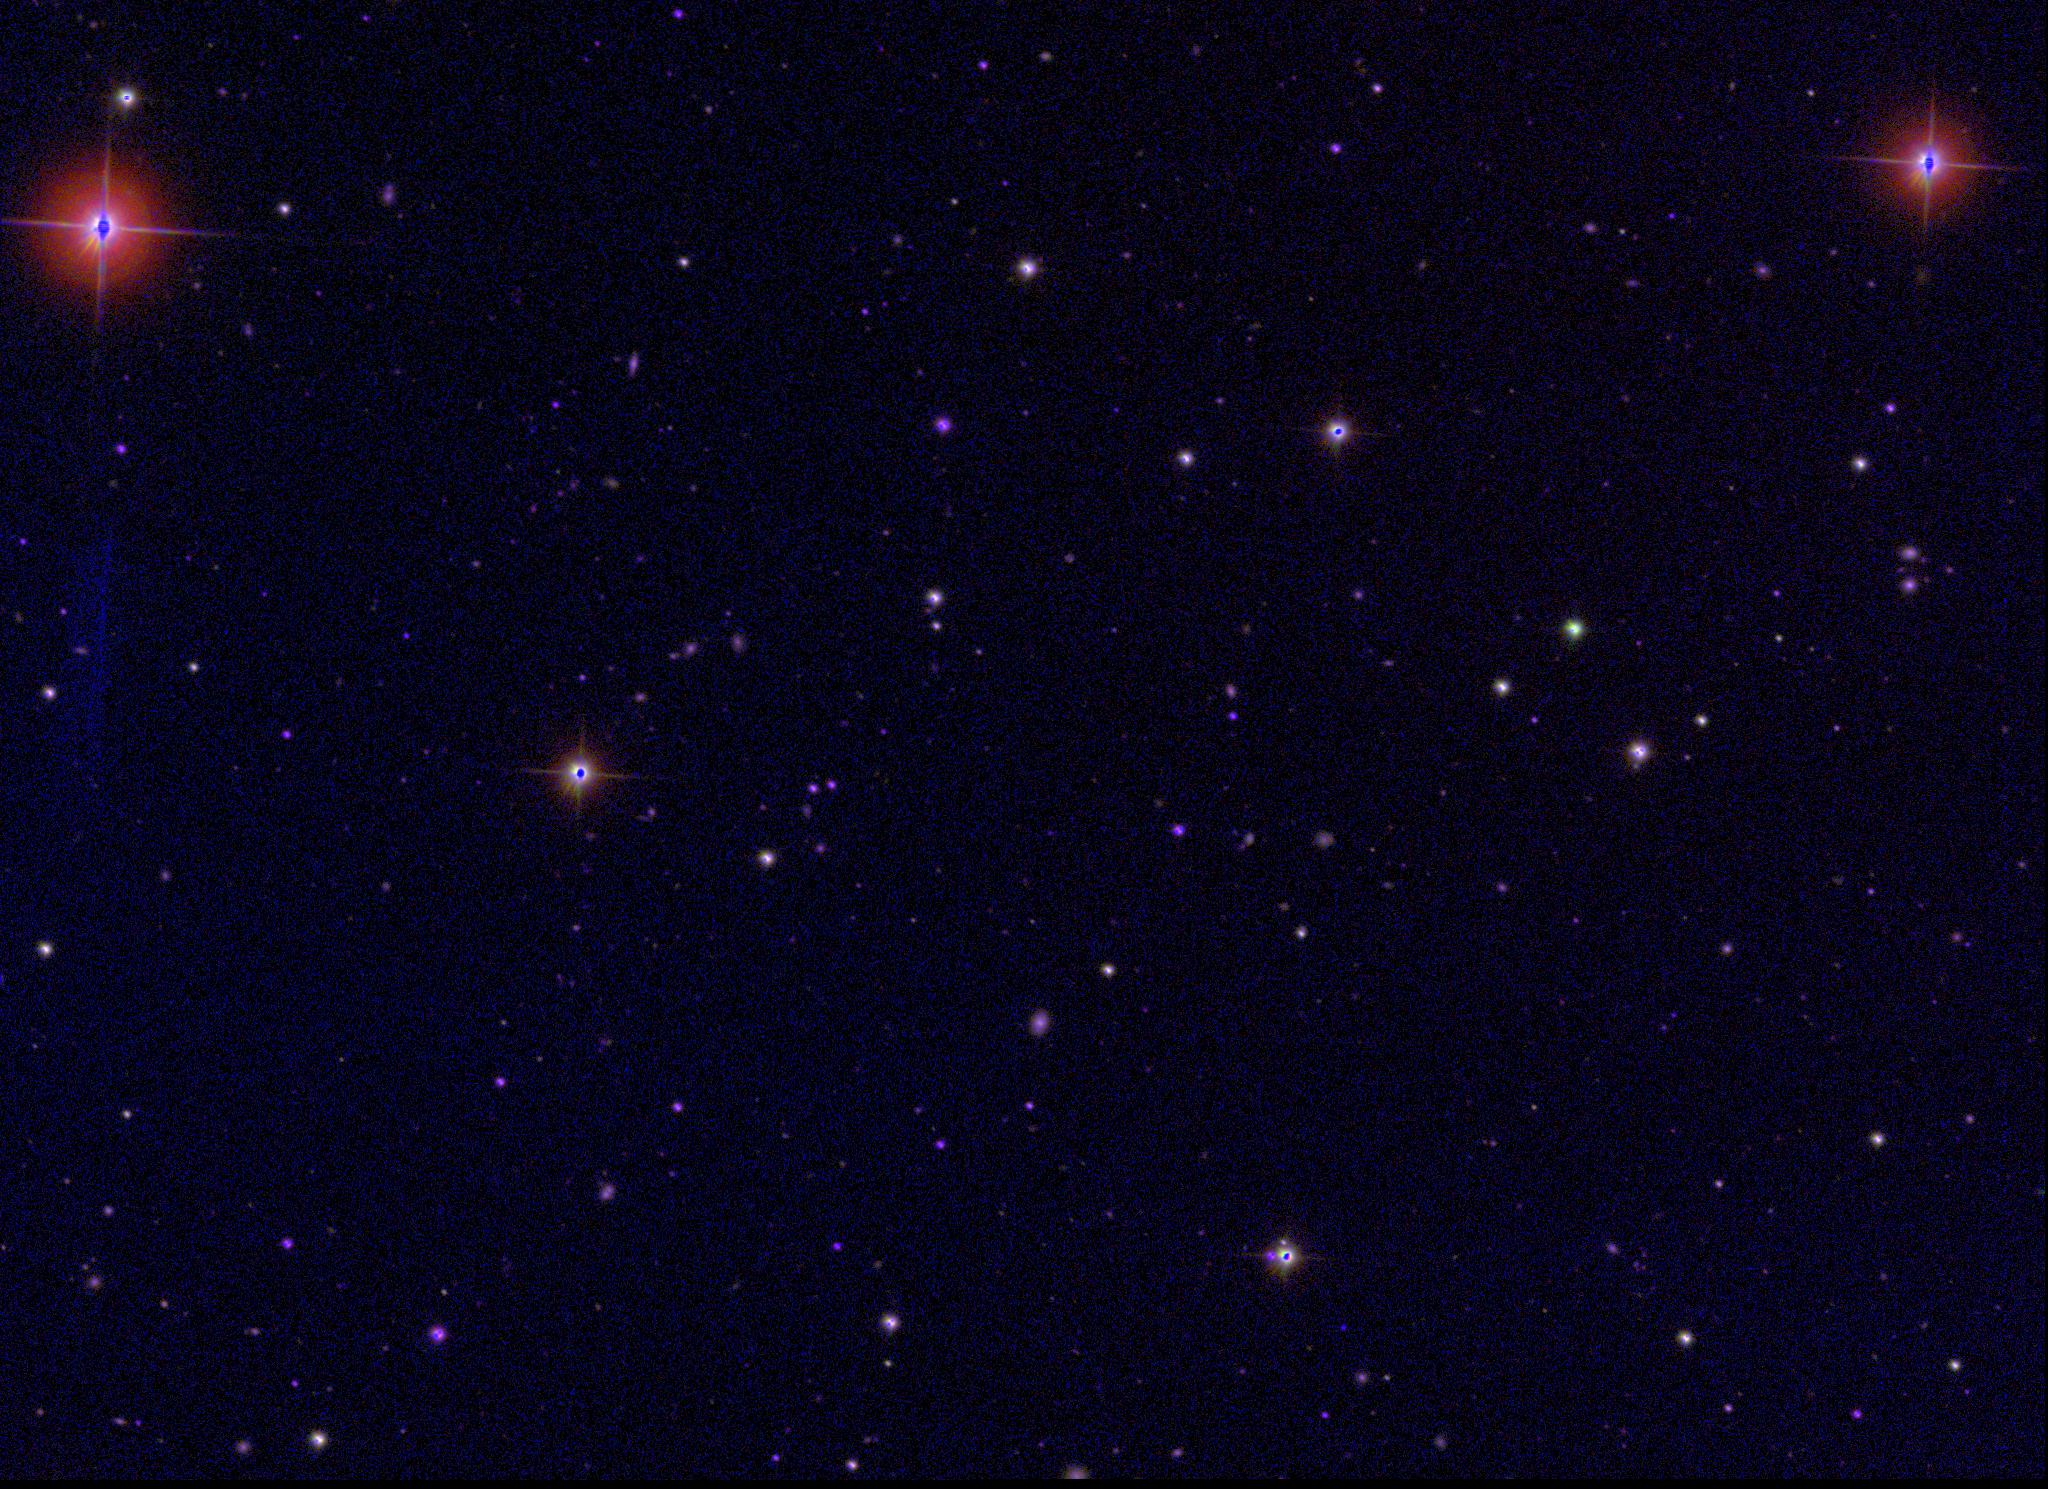L: (1337, 1320, 1352, 1335)
